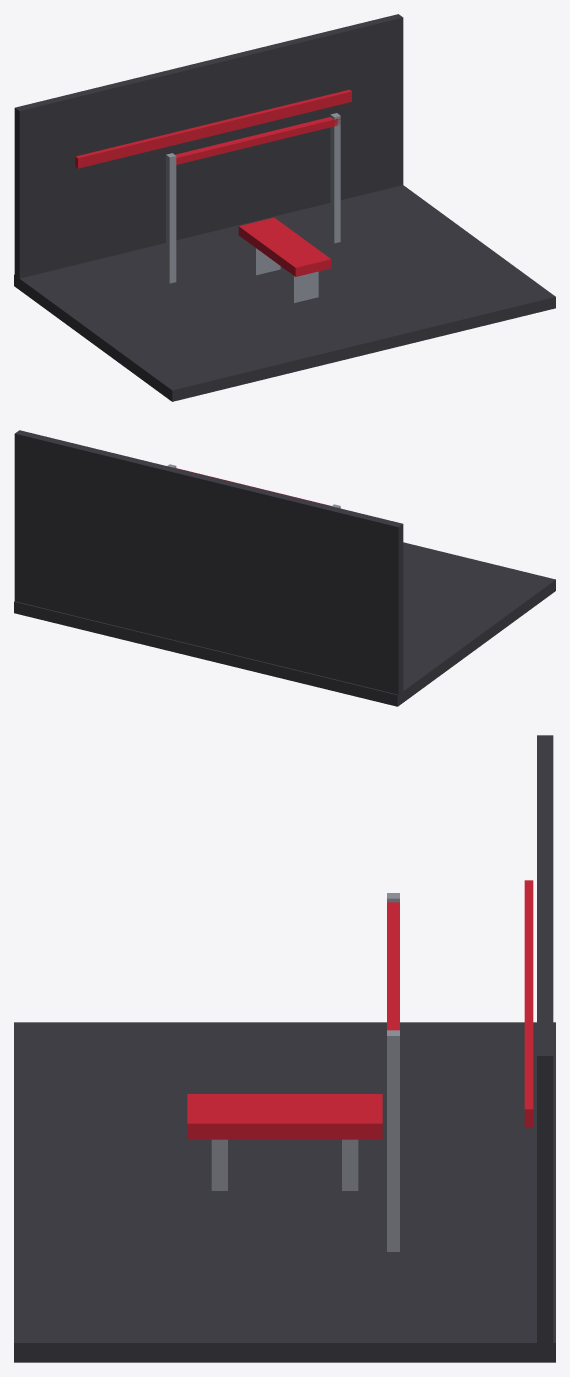
Rendered from smoke.glb.
3 renders of one model, top to bottom at view 1: azimuth 30°, elevation 25°; view 2: azimuth 150°, elevation 25°; view 3: azimuth 270°, elevation 25°, orthographic. The views are drawn at different scales.
Parts seen in each view (by area): view 1: Back wall, Floor, Nexus accent, Bench cushion, Rack crossbar, Rack upright, Rack upright.001, Bench support, Bench support.001; view 2: Back wall, Floor; view 3: Floor, Back wall, Bench cushion, Rack upright.001, Nexus accent, Rack crossbar, Bench support, Bench support.001.
Part boxes in pixels (<box>): Back wall: <box>14,14,403,278</box>; Floor: <box>14,185,555,401</box>; Nexus accent: <box>75,89,351,168</box>; Bench cushion: <box>238,217,331,276</box>; Rack crossbar: <box>175,117,340,164</box>; Rack upright: <box>166,153,176,283</box>; Rack upright.001: <box>330,113,340,243</box>; Bench support: <box>289,271,318,302</box>; Bench support.001: <box>251,245,280,275</box>; Back wall: <box>14,430,403,694</box>; Floor: <box>14,542,555,706</box>; Floor: <box>14,1022,555,1362</box>; Back wall: <box>537,735,553,1349</box>; Bench cushion: <box>187,1094,382,1139</box>; Rack upright.001: <box>387,1030,399,1251</box>; Nexus accent: <box>524,880,533,1127</box>; Rack crossbar: <box>387,902,399,1030</box>; Bench support: <box>211,1139,227,1190</box>; Bench support.001: <box>342,1139,358,1190</box>.
Bounding box in the file's own units: 7 × 3.12 × 5.
